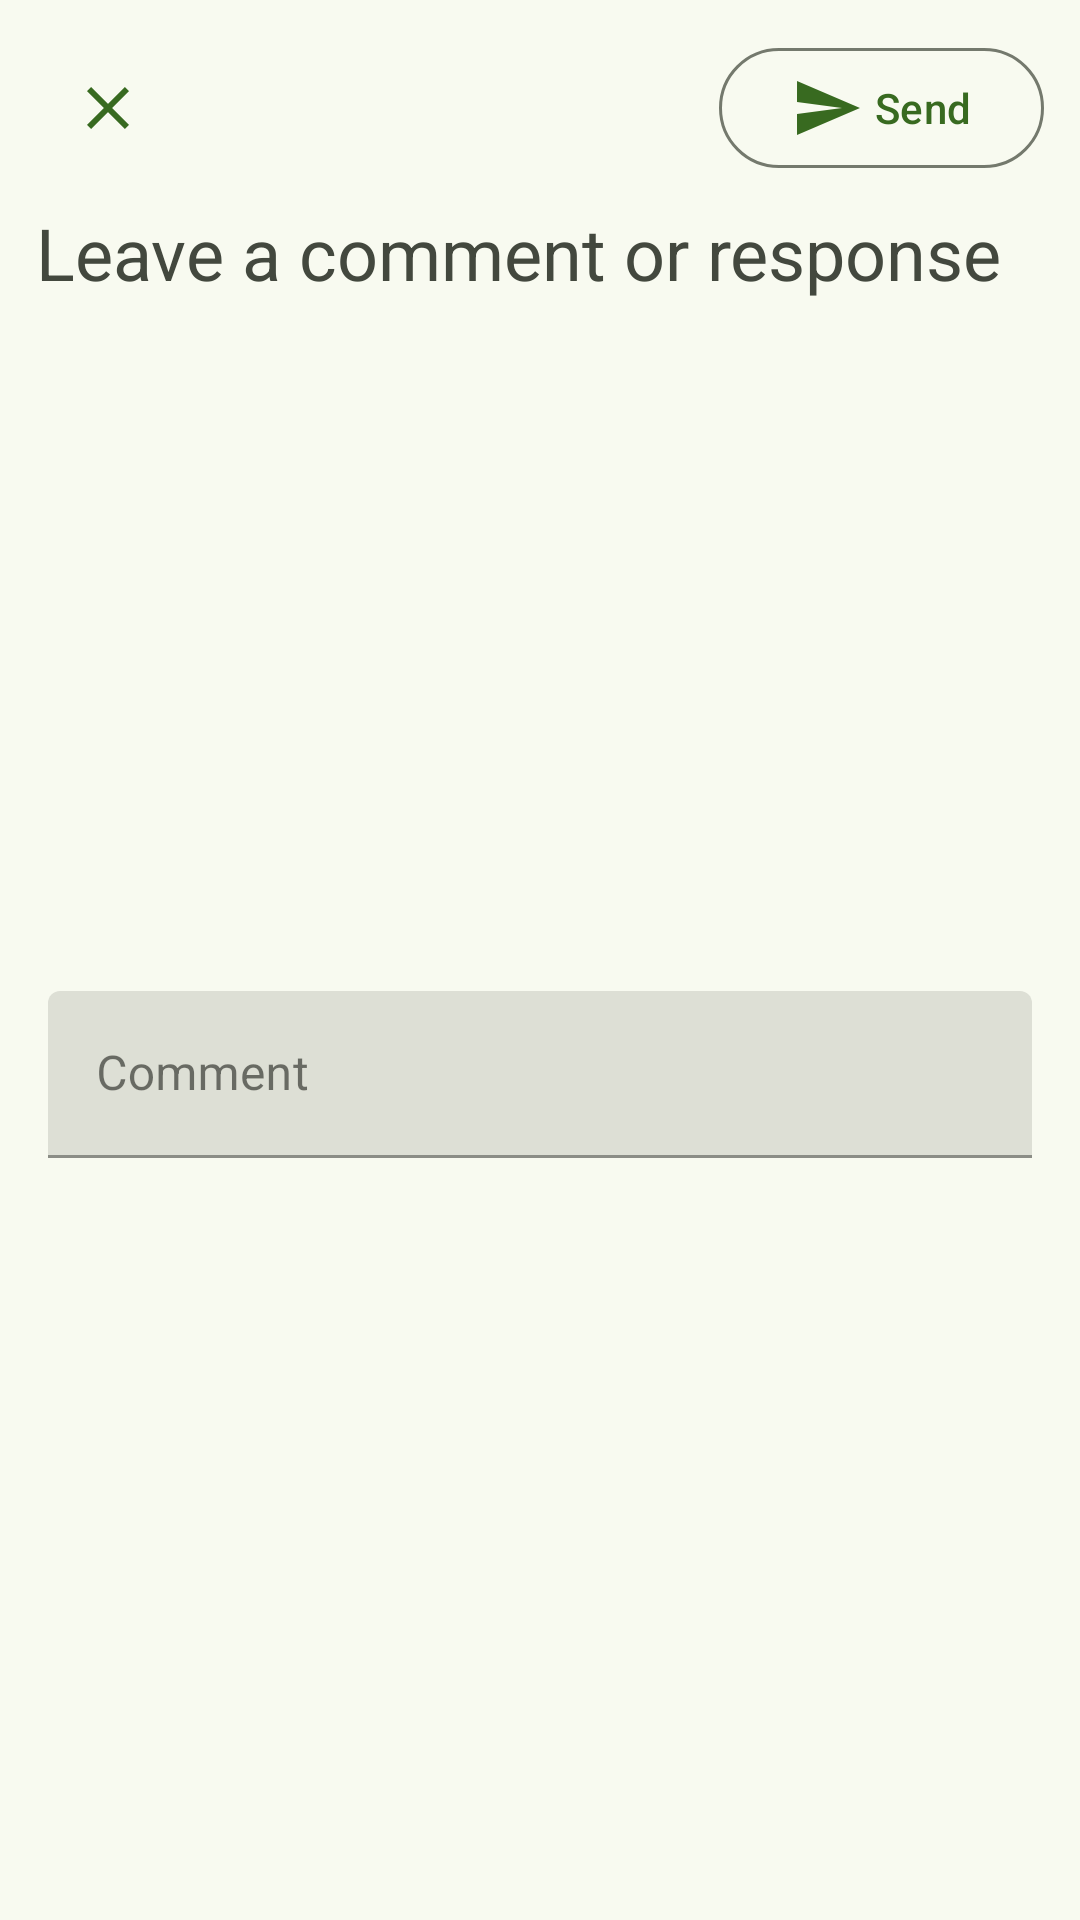

Screen size 1080*1920. Icon name, then its center in pixels as point (x, y):
clear: point (108, 108)
